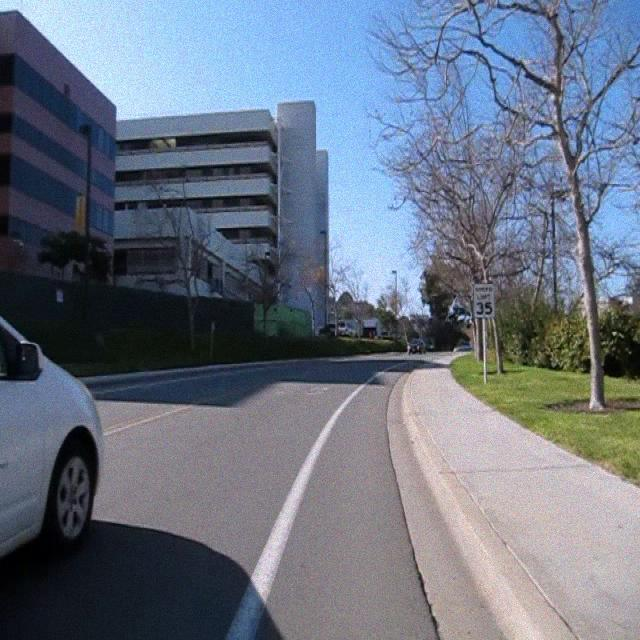speedLimit35: (472, 282, 494, 318)
